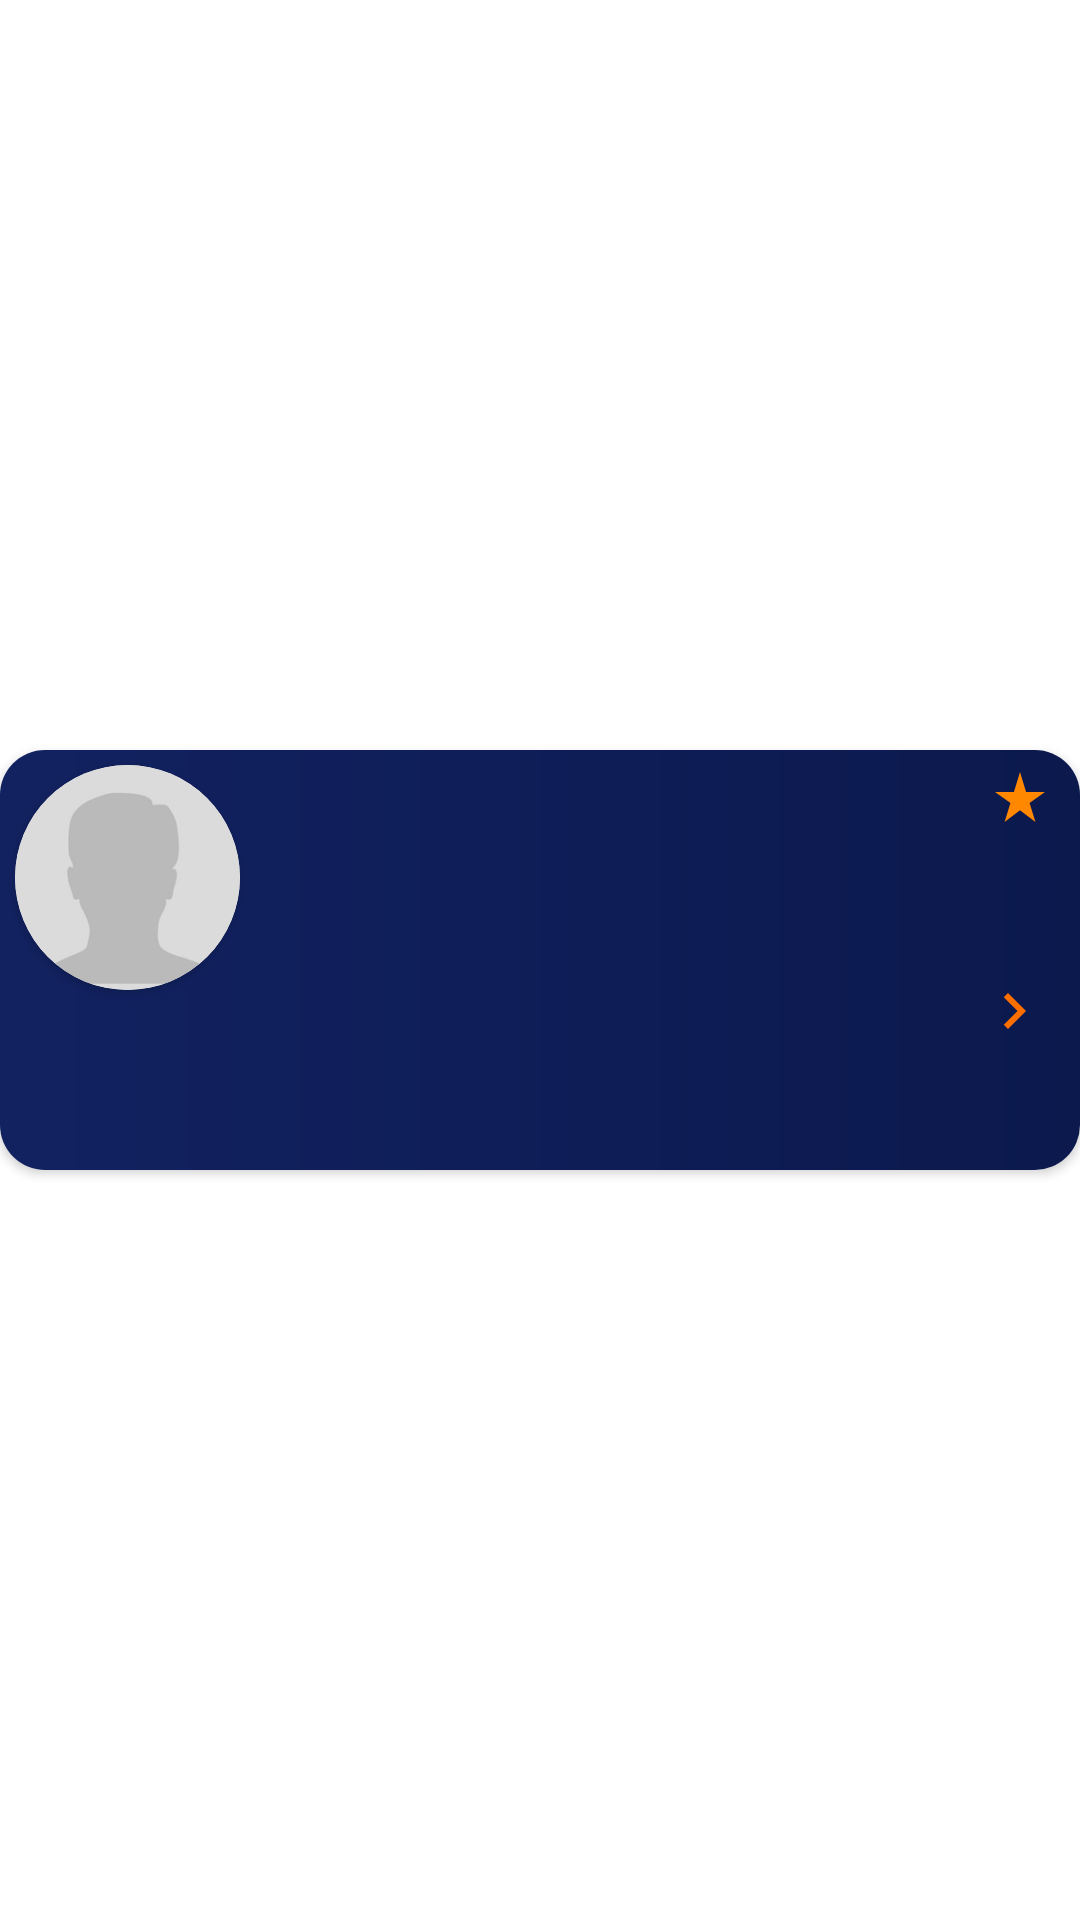

Named icons in this screenshot (1080 × 1920) and their bounding boxes, (x1, y1, x2, y2):
defult pic: (15, 765, 240, 990)
